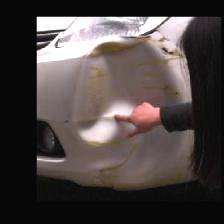bumper_dent: (77, 38, 187, 169)
